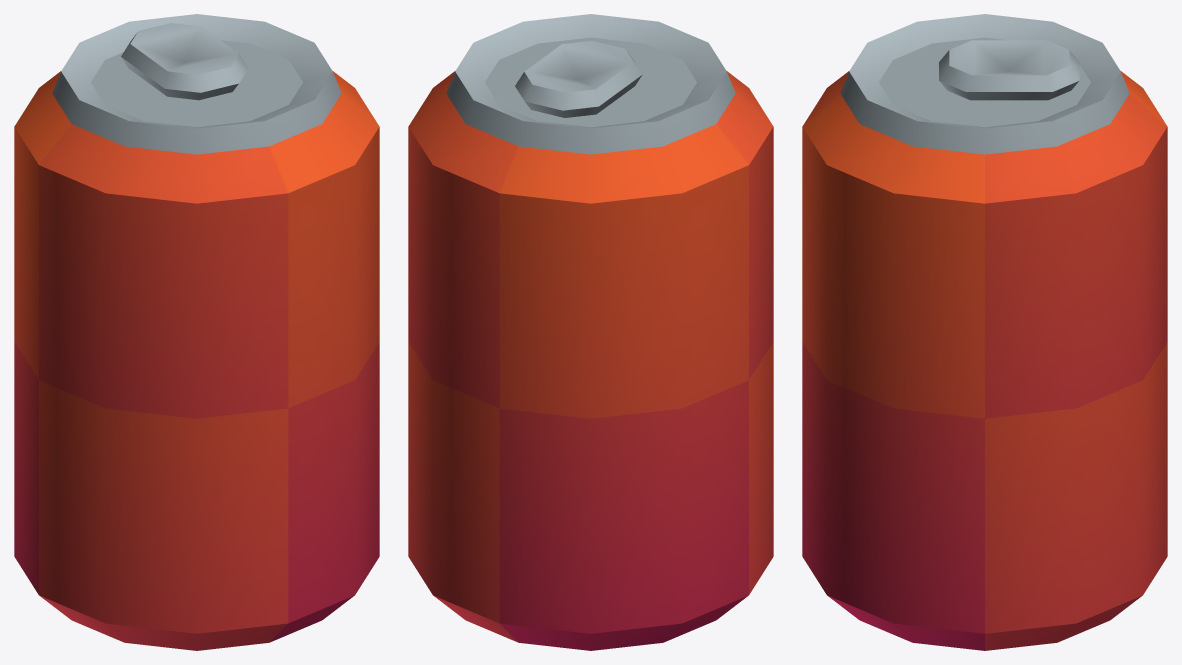
The model's file is can_b.glb.
The picture shows the model from 3 angles, left to right: view 1: azimuth 30°, elevation 25°; view 2: azimuth 150°, elevation 25°; view 3: azimuth 270°, elevation 25°; orthographic projection.
Parts seen in each view (by area): view 1: Can_B; view 2: Can_B; view 3: Can_B.
Boxes of the visible parts, <box> form: Can_B: <box>14,14,379,650</box>; Can_B: <box>408,14,773,650</box>; Can_B: <box>802,14,1167,650</box>.
Bounding box in the file's own units: 0.3 × 0.4823 × 0.3.
Materials: 1 (1 with a texture image).
